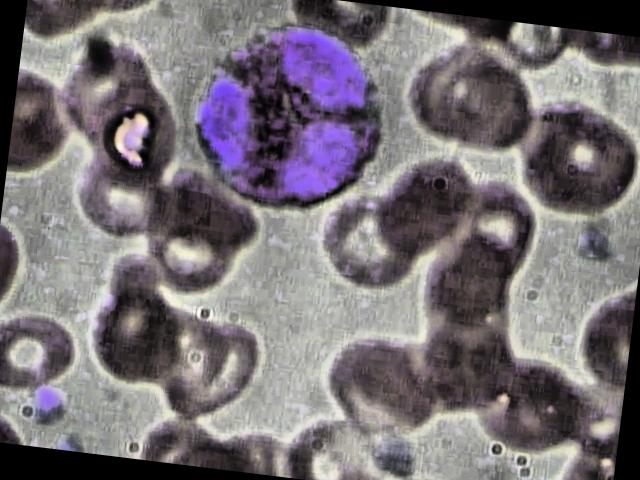Platelets: (567, 220, 617, 271), (23, 383, 75, 424)
RBC: (398, 34, 548, 168), (517, 98, 640, 227), (76, 68, 192, 200), (159, 313, 275, 432), (370, 147, 485, 262), (83, 272, 189, 392), (314, 190, 432, 296), (68, 146, 180, 251), (0, 297, 83, 400)
WBC: (176, 1, 404, 228)
